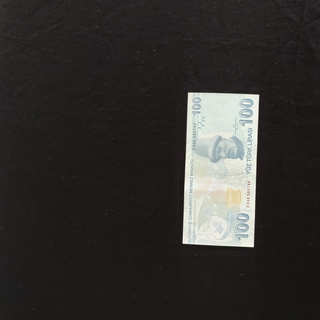100TLBack: (182, 91, 260, 248)
